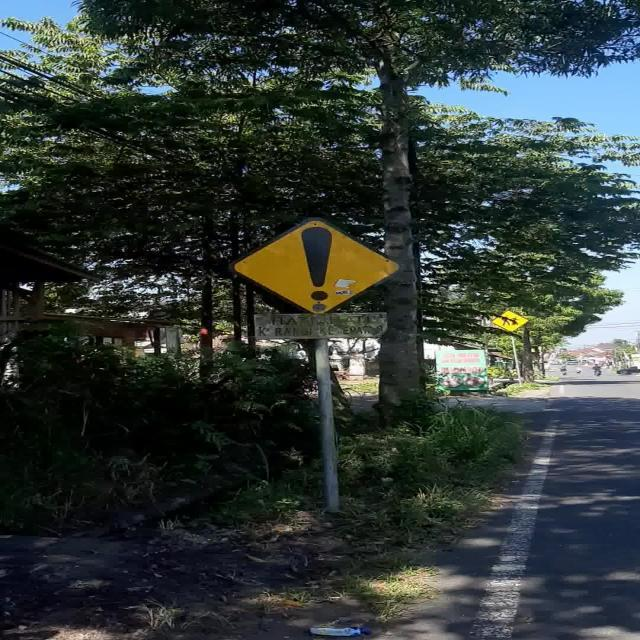Hati-Hati: (229, 216, 402, 314)
